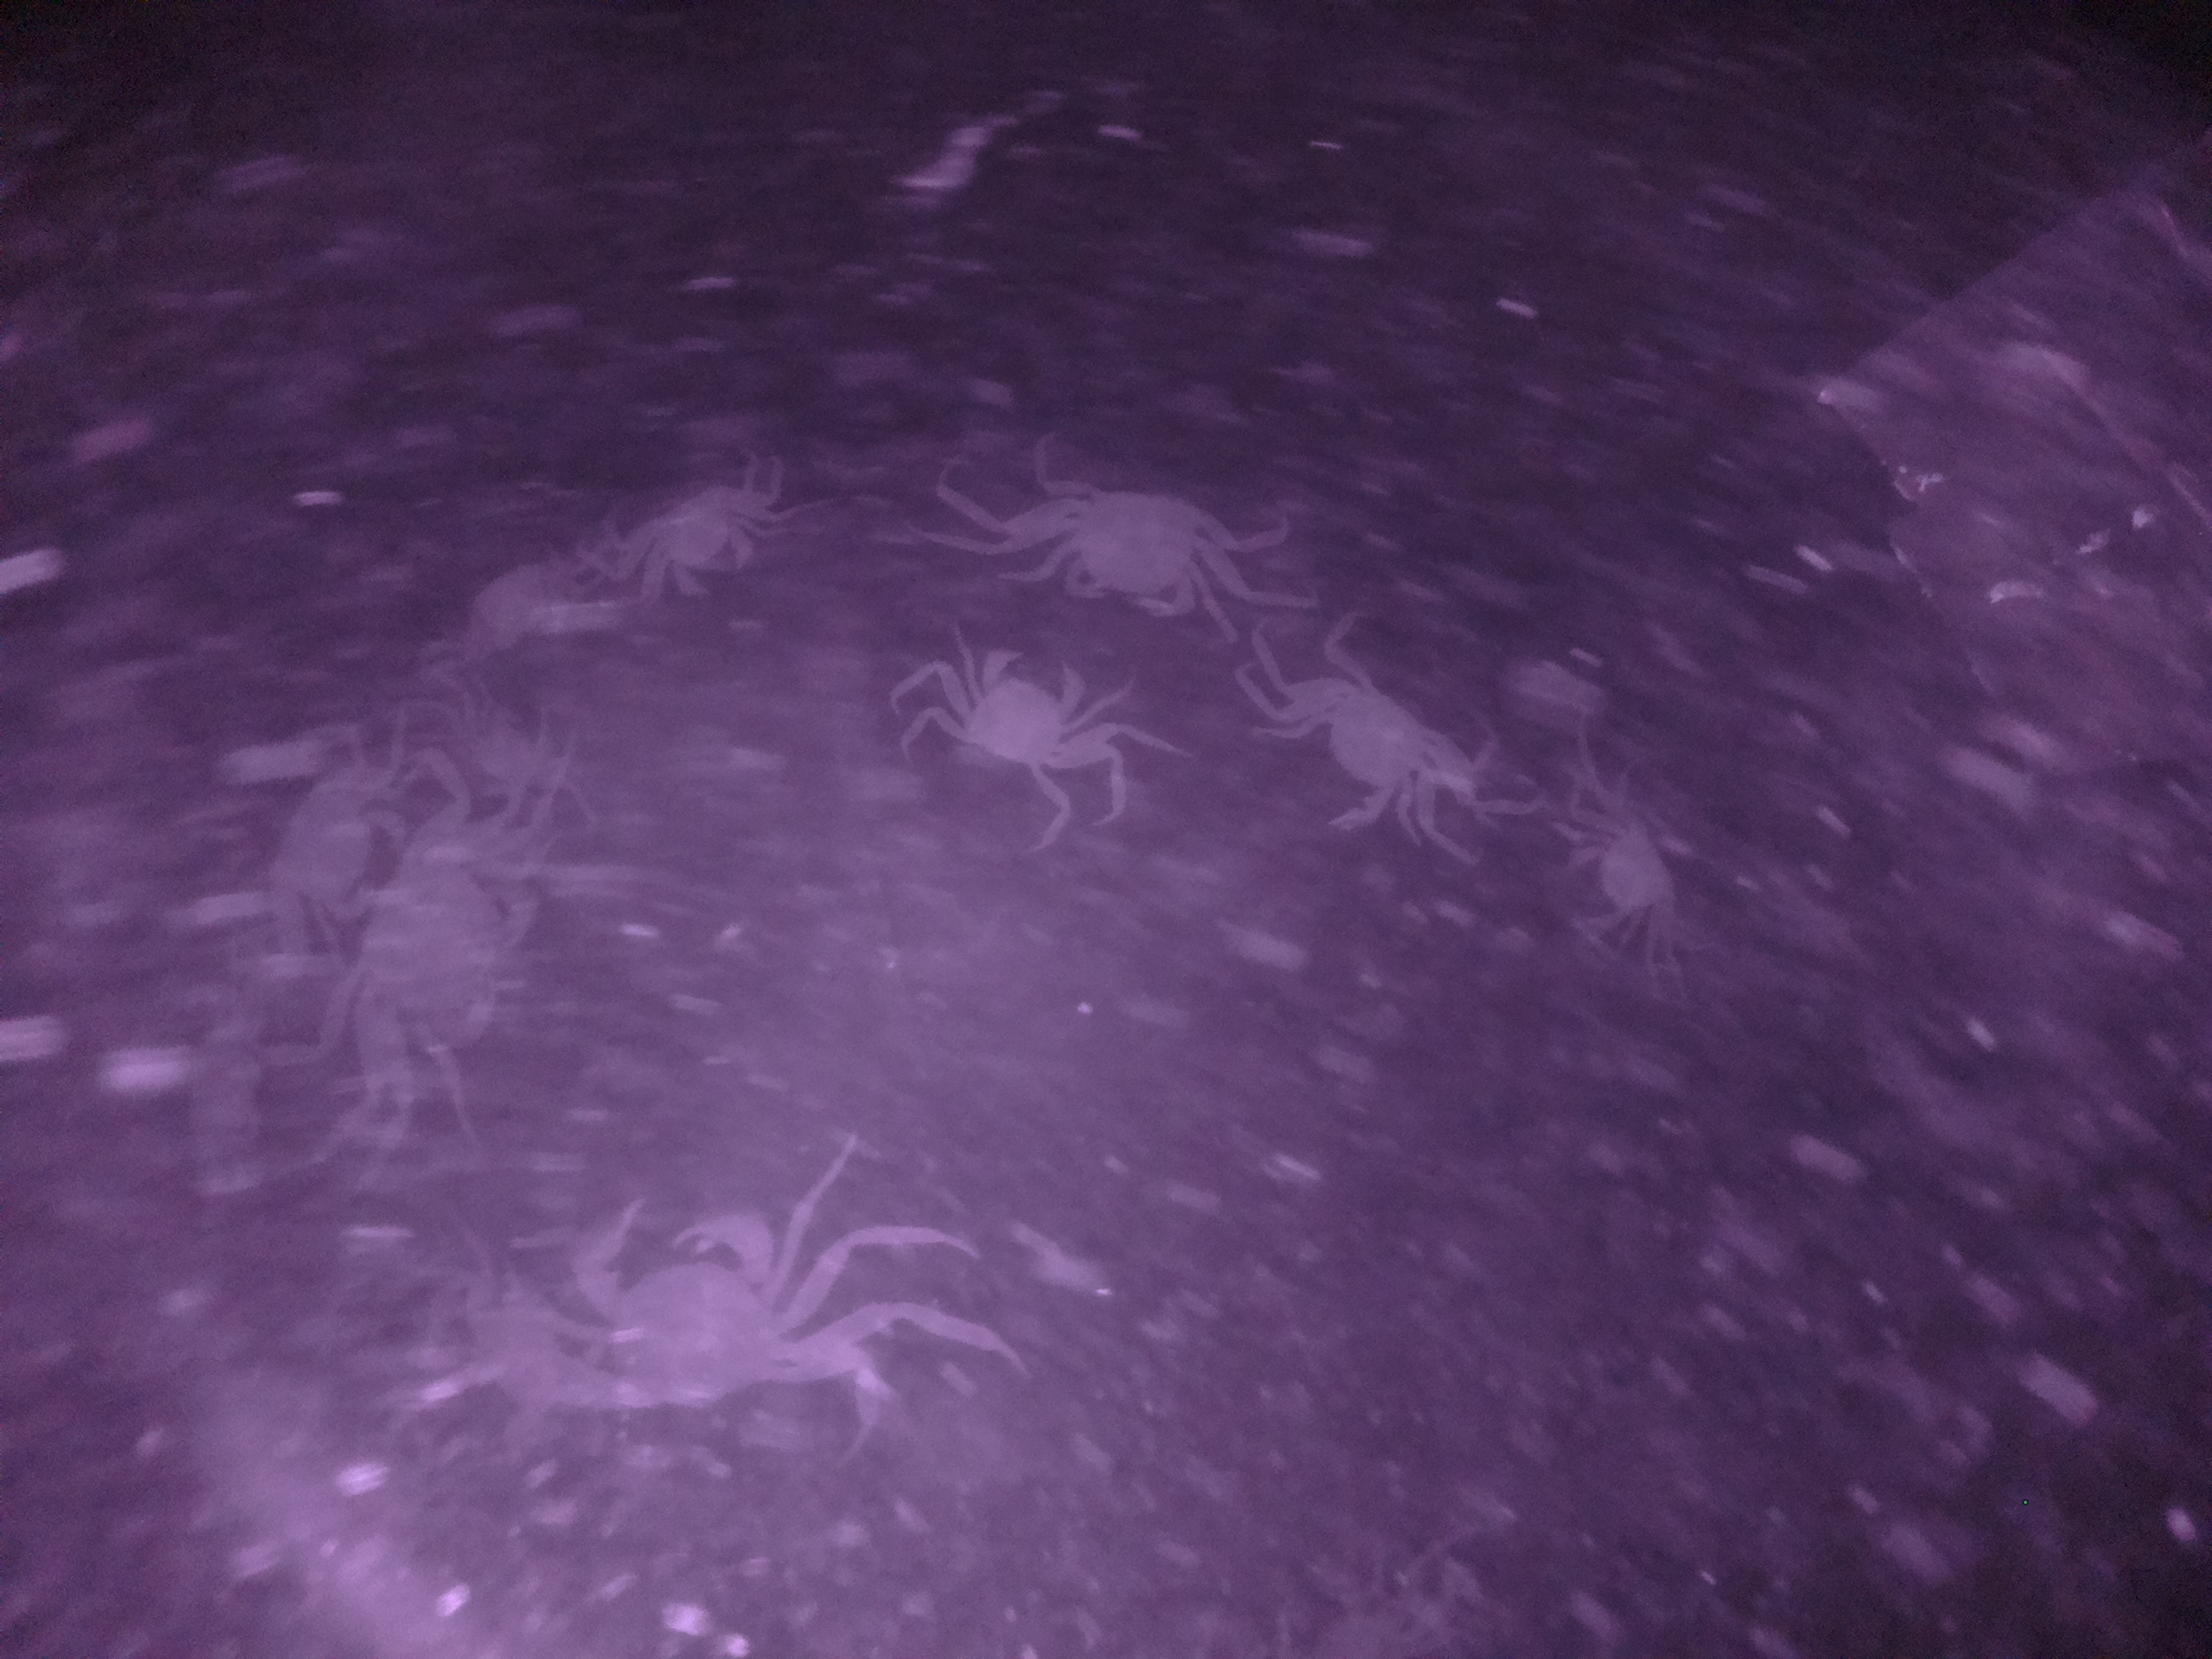Crab: (1251, 633, 1449, 831), (249, 730, 421, 955), (1010, 464, 1259, 615), (928, 636, 1127, 774), (631, 460, 786, 612), (1562, 793, 1710, 943)
